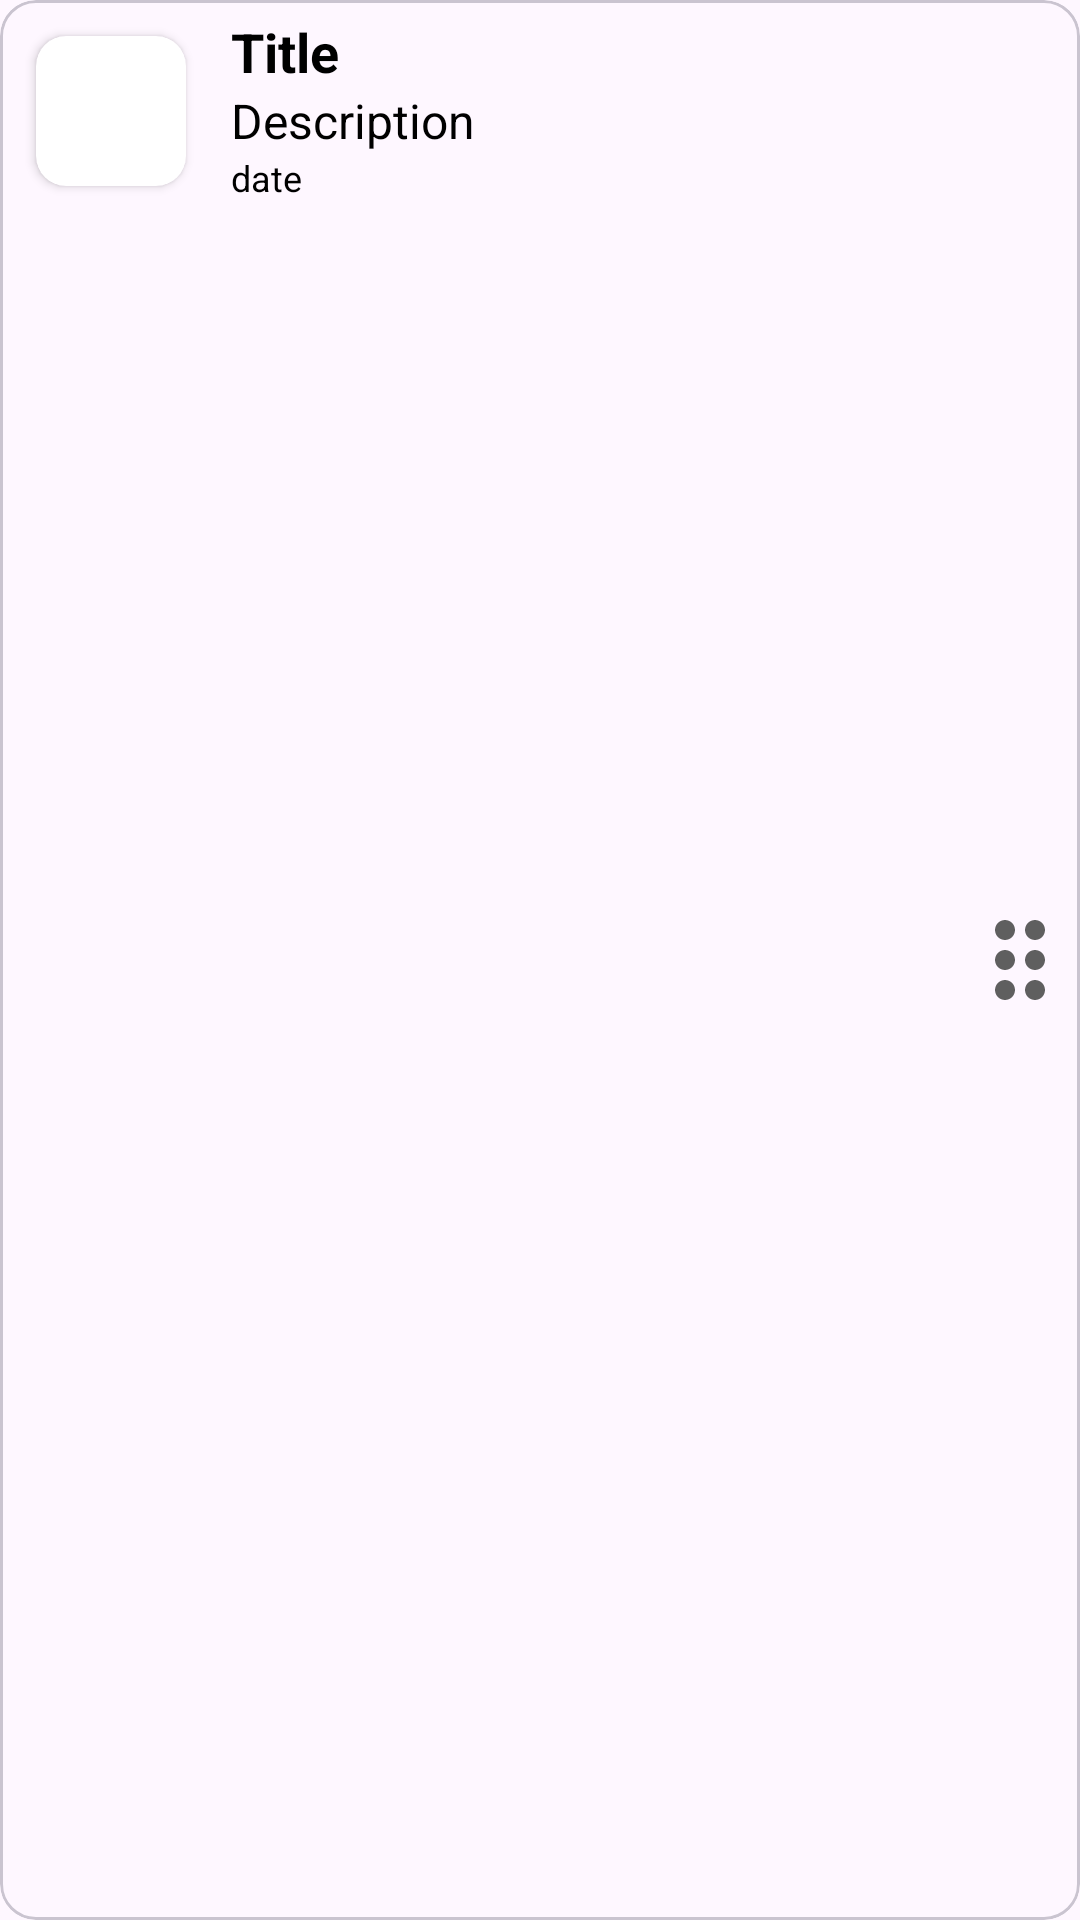

Icons on this 1080px x 1920px Android screen, each with the point to tap as point (x, y):
drag indicator: point (1020, 960)
